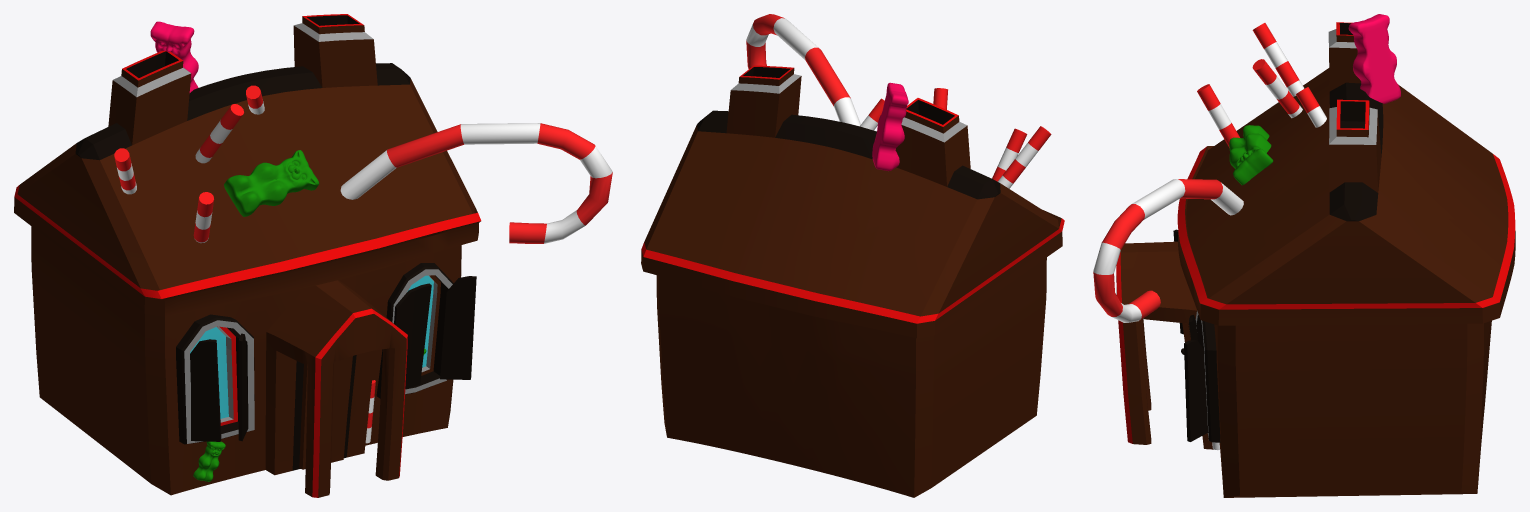
Rendered from ginger bread house 4.FBX.
3 views of the same model, side by side, from view 1: azimuth 30°, elevation 25°; view 2: azimuth 150°, elevation 25°; view 3: azimuth 270°, elevation 25° (orthographic). The views are drawn at different scales.
Visible parts, largest first — view 1: Box028, Candy Cane015, Gummy Bear008, Box025, Box026, Box024, Gummy Bear010, Candy Cane019, Box022, Candy Cane014, Gummy Bear015, Candy Cane017; view 2: Box028, Candy Cane015, Gummy Bear010, Candy Cane017, Candy Cane014; view 3: Box028, Candy Cane015, Gummy Bear010, Box025, Gummy Bear008, Candy Cane017, Candy Cane019, Candy Cane014, Candy Cane018.
Boxes of the visible parts, <box> form: Box028: <box>14,14,481,497</box>; Candy Cane015: <box>340,123,612,243</box>; Gummy Bear008: <box>224,150,319,216</box>; Box025: <box>440,276,476,379</box>; Box026: <box>190,339,221,441</box>; Box024: <box>394,283,431,388</box>; Gummy Bear010: <box>150,21,198,92</box>; Candy Cane019: <box>195,104,243,163</box>; Box022: <box>238,333,248,441</box>; Candy Cane014: <box>193,192,213,243</box>; Gummy Bear015: <box>193,441,225,481</box>; Candy Cane017: <box>114,148,136,194</box>; Box028: <box>641,65,1064,497</box>; Candy Cane015: <box>746,14,860,126</box>; Gummy Bear010: <box>872,82,908,170</box>; Candy Cane017: <box>997,126,1051,188</box>; Candy Cane014: <box>992,128,1027,181</box>; Box028: <box>1116,22,1515,497</box>; Candy Cane015: <box>1093,179,1243,322</box>; Gummy Bear010: <box>1348,14,1400,103</box>; Box025: <box>1184,339,1208,441</box>; Gummy Bear008: <box>1229,125,1273,185</box>; Candy Cane017: <box>1252,23,1304,96</box>; Candy Cane019: <box>1252,59,1302,118</box>; Candy Cane014: <box>1197,84,1239,147</box>; Candy Cane018: <box>1296,87,1326,127</box>.
Size of the model in its own units: 178 by 162 by 161.
